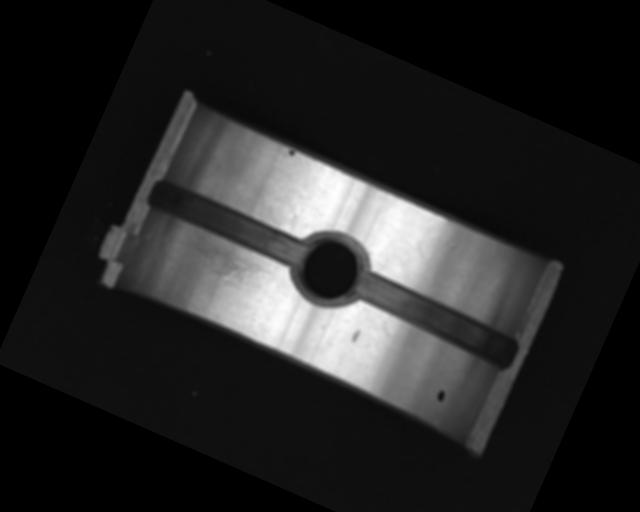blot: (435, 387, 447, 403), (285, 146, 296, 158)
bruise: (349, 327, 362, 345)
gap: (346, 266, 524, 373), (144, 174, 311, 273)
hole: (283, 220, 378, 319)
scratch: (172, 226, 282, 299)
